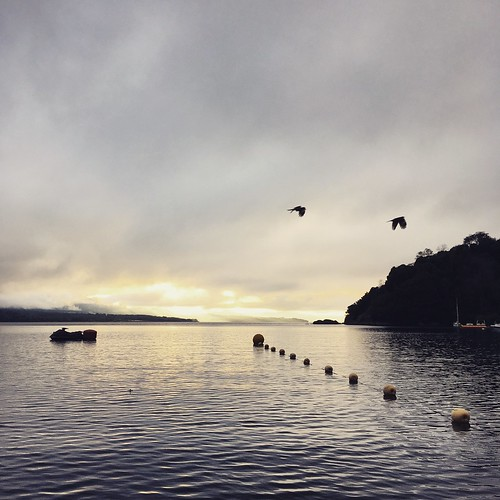animal: (387, 209, 409, 234), (288, 195, 310, 220)
mountain: (349, 217, 490, 308)
sea: (4, 319, 500, 500)
sky: (1, 2, 482, 290)
